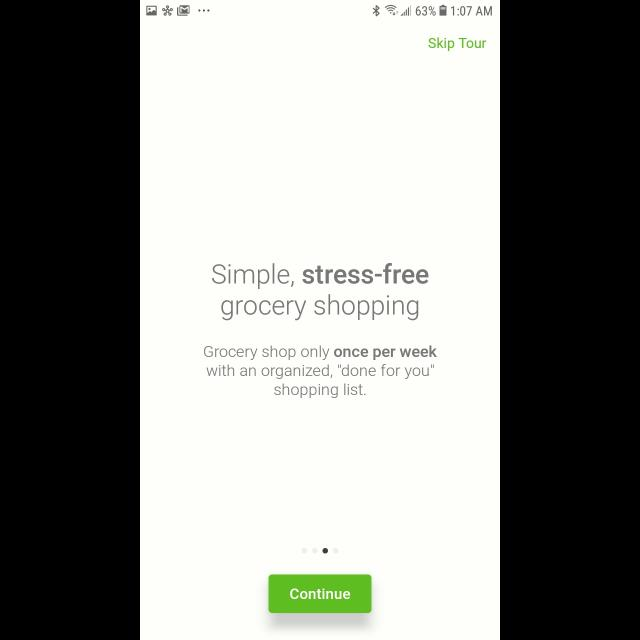pageindicator: (301, 548, 339, 554)
text: (212, 263, 430, 321), (205, 345, 438, 399), (429, 38, 487, 52)
textbutton: (268, 574, 372, 614)
uppertaskbar: (140, 1, 500, 18)
